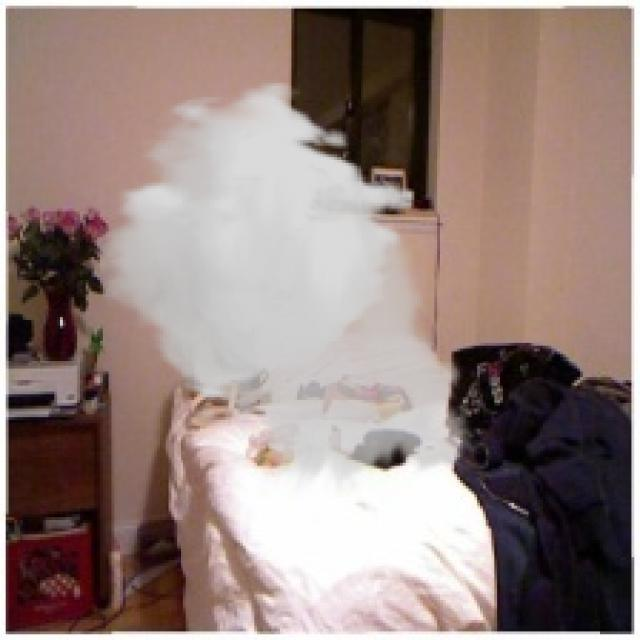Smoke: (100, 80, 486, 497)
